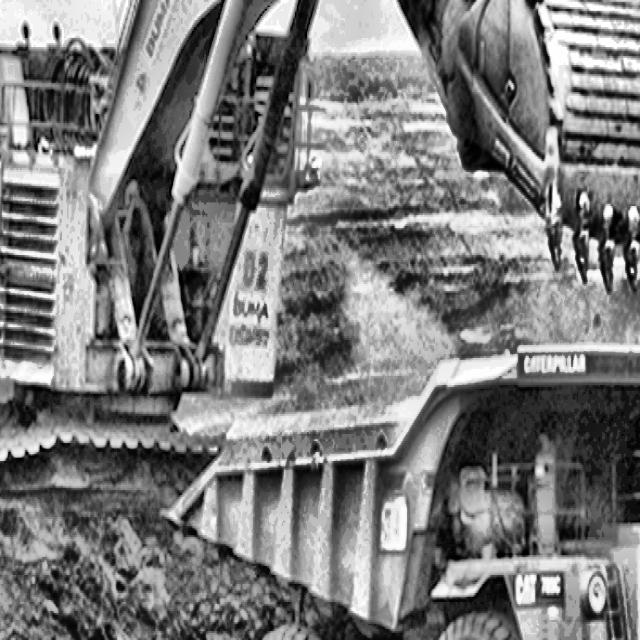dump_truck: (170, 275, 640, 640)
excavator: (0, 0, 640, 562)
